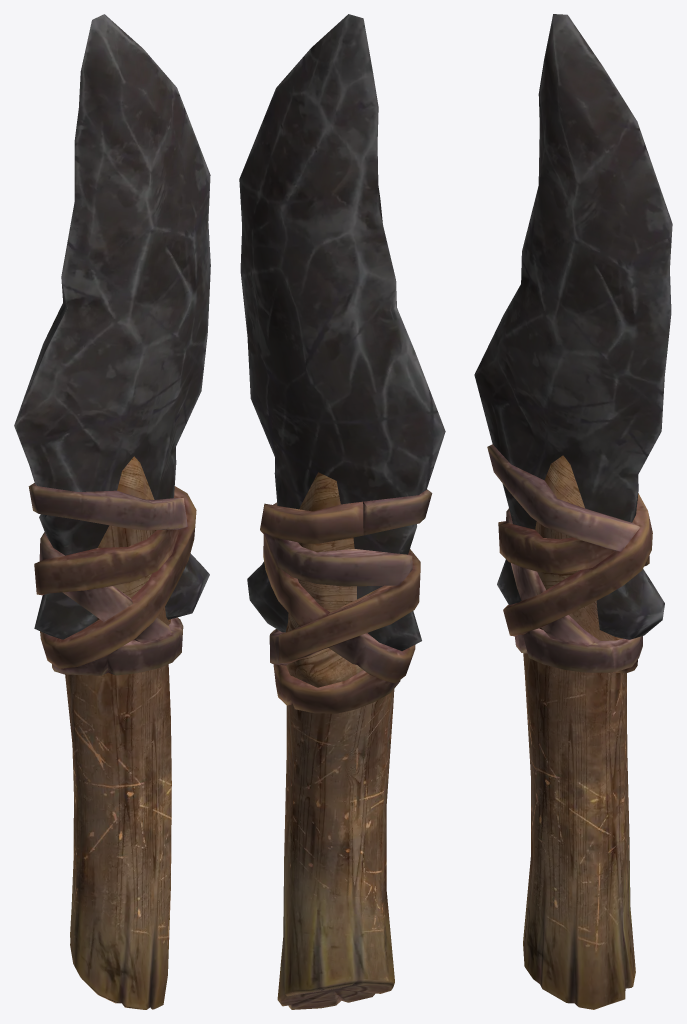
3 renders of one model, left to right at view 1: azimuth 30°, elevation 25°; view 2: azimuth 150°, elevation 25°; view 3: azimuth 330°, elevation 25°, orthographic. The views are drawn at different scales.
Visible parts, largest first — view 1: SM_Dagger_Stone_1H_01_LOD0; view 2: SM_Dagger_Stone_1H_01_LOD0; view 3: SM_Dagger_Stone_1H_01_LOD0.
Boxes of the visible parts, box(x1,y1,x2,y2) form: SM_Dagger_Stone_1H_01_LOD0: box(14, 14, 210, 1009); SM_Dagger_Stone_1H_01_LOD0: box(239, 14, 445, 1009); SM_Dagger_Stone_1H_01_LOD0: box(474, 14, 672, 1009).
Bounding box in the file's own units: 0.1145 × 0.5457 × 0.0663.
Materials: 1 (1 with a texture image).
